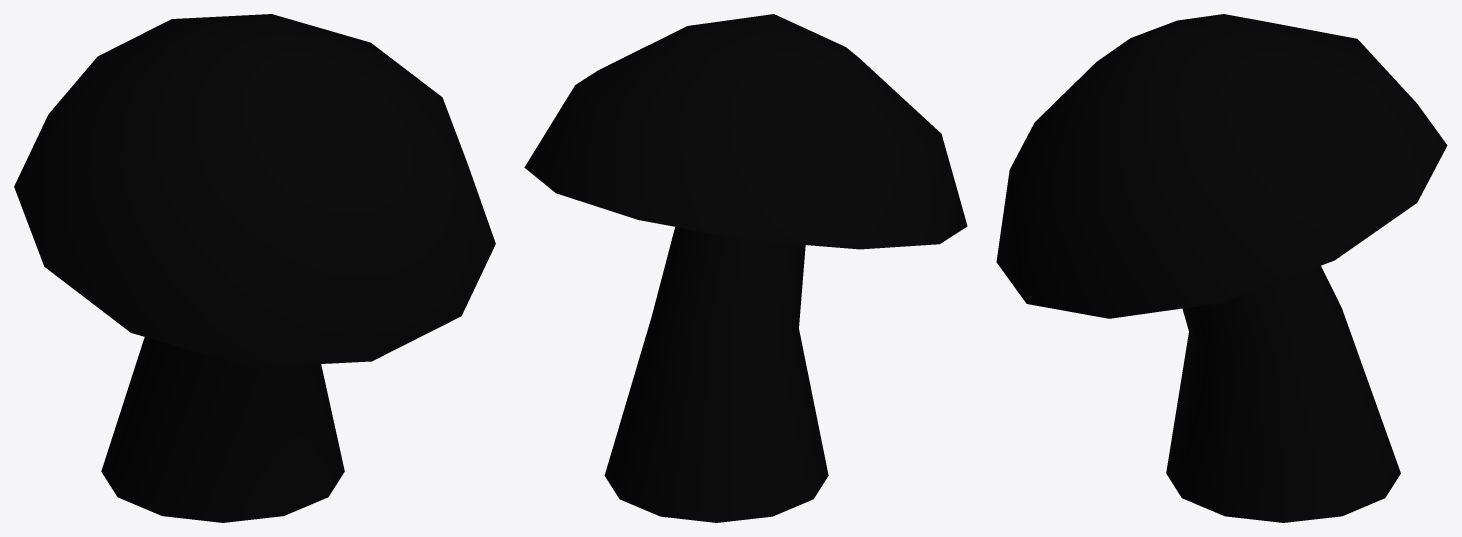
The model's file is Mushroom.fbx.
3 views of the same model, side by side, from view 1: azimuth 30°, elevation 25°; view 2: azimuth 150°, elevation 25°; view 3: azimuth 270°, elevation 25° (orthographic). The views are drawn at different scales.
Parts seen in each view (by area): view 1: Cylinder; view 2: Cylinder; view 3: Cylinder.
Boxes of the visible parts, x1,y1,x2,y2 form: Cylinder: [14, 14, 495, 522]; Cylinder: [524, 14, 967, 522]; Cylinder: [996, 14, 1447, 522].
Bounding box in the file's own units: 43.91 × 45.43 × 42.22.
